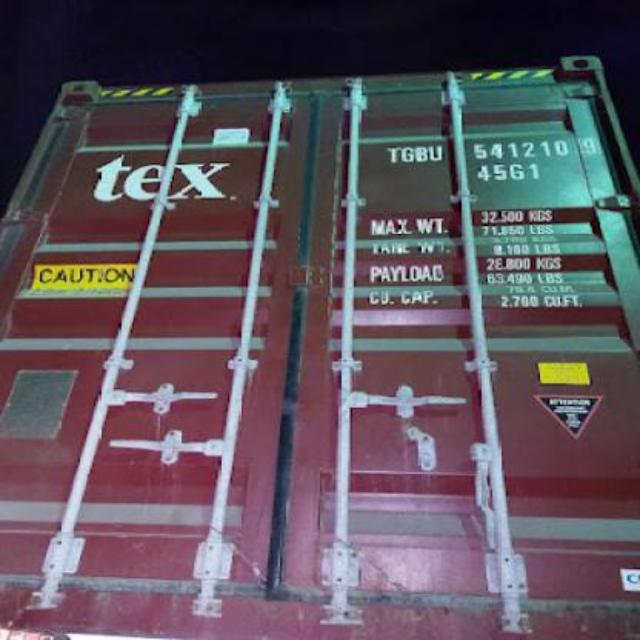0: (554, 134, 570, 162)
1: (540, 135, 554, 161), (508, 138, 522, 160)
2: (522, 136, 534, 158)
4: (488, 136, 504, 160)
5: (468, 136, 489, 162)
9: (582, 134, 600, 158)
B: (416, 144, 428, 166)
G: (401, 138, 414, 166)
T: (384, 139, 400, 171)
U: (428, 142, 444, 162)
